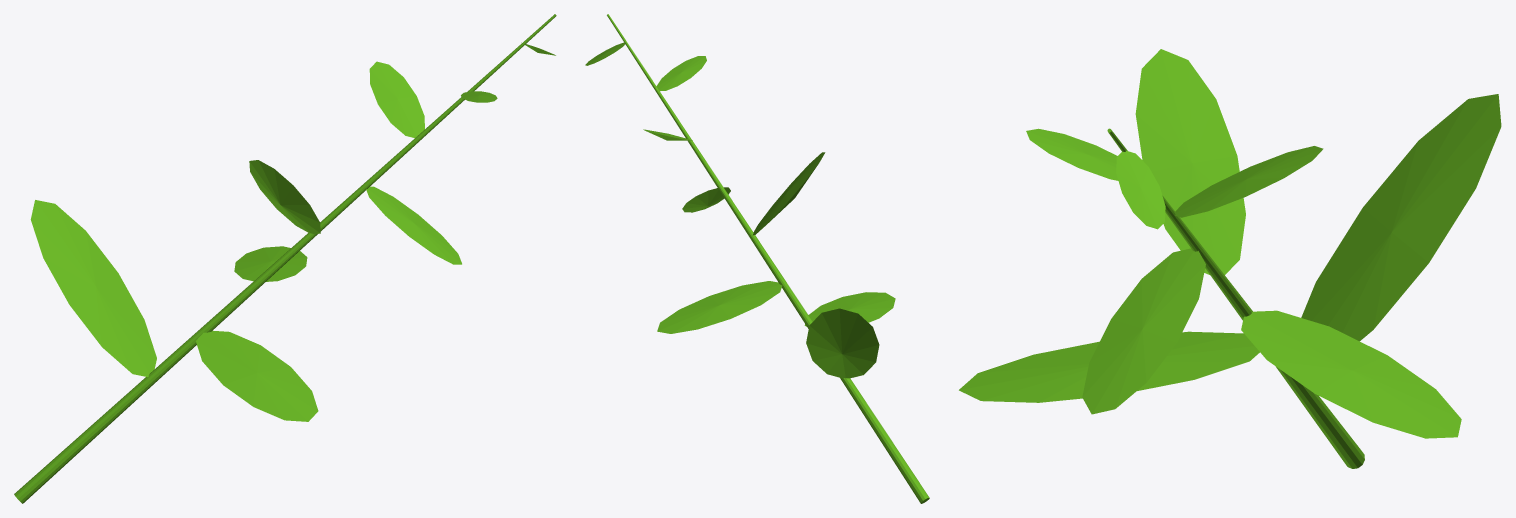
3 views of the same model, side by side, from view 1: azimuth 30°, elevation 25°; view 2: azimuth 150°, elevation 25°; view 3: azimuth 270°, elevation 25° (orthographic). The views are drawn at different scales.
Visible parts, largest first — view 1: tree; view 2: tree; view 3: tree.
Part boxes in pixels (bbox=[...]): tree: bbox=[14, 14, 556, 503]; tree: bbox=[585, 14, 929, 503]; tree: bbox=[959, 49, 1501, 468].
Bounding box in the file's own units: 0.259 × 0.1551 × 0.2228.
